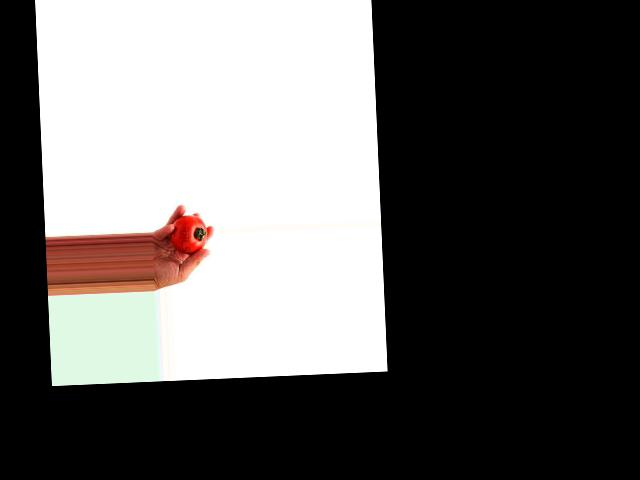tomato: (169, 214, 207, 254)
